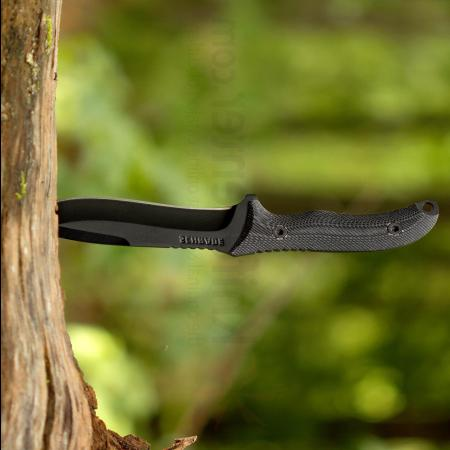long weapon: (52, 190, 445, 260)
